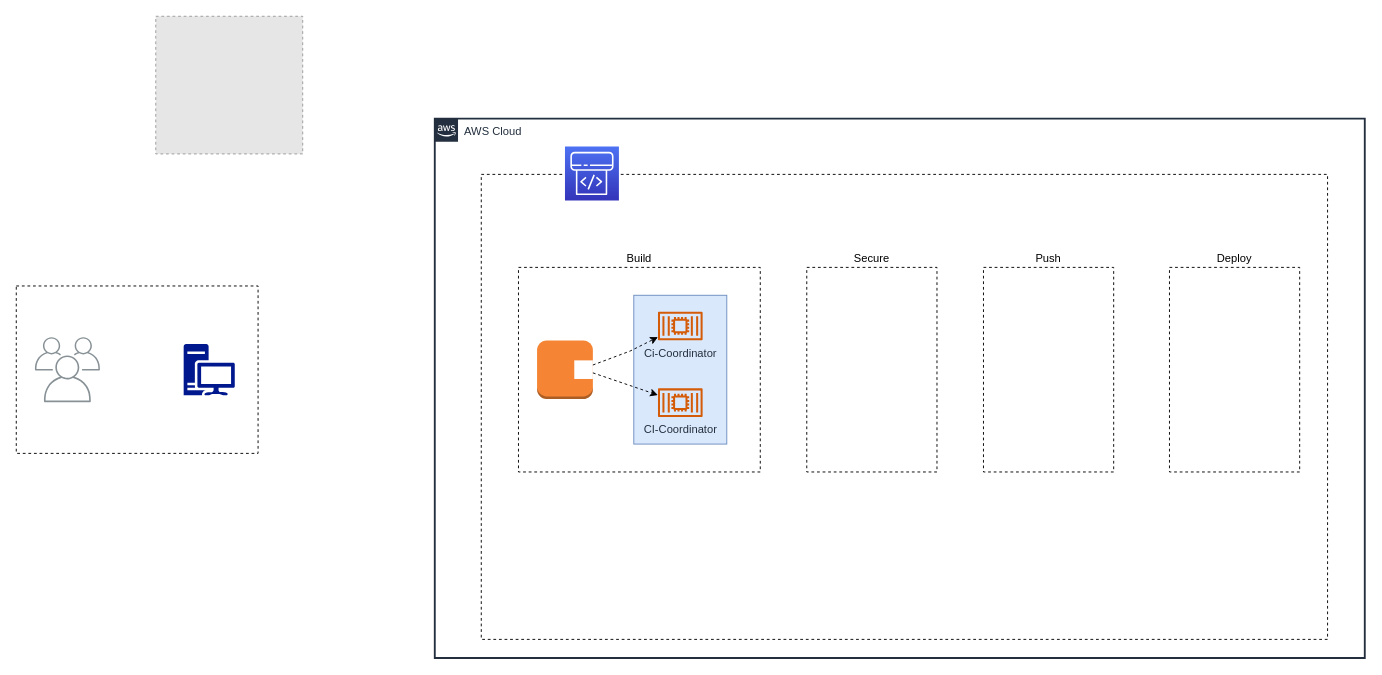
The diagram is 1382 pixels wide and 675 high, and some of its shapes have lost their labels. Grey dashed boxes stand in for pictures. Here are the shapes that lost their labels. From the top down, the box of each, then its label:
(564, 146, 619, 200): Gitlab pipeline
(34, 337, 100, 402): Developers
(536, 339, 593, 399): Gitlab Runner
(633, 294, 727, 444): AWS Fargate
